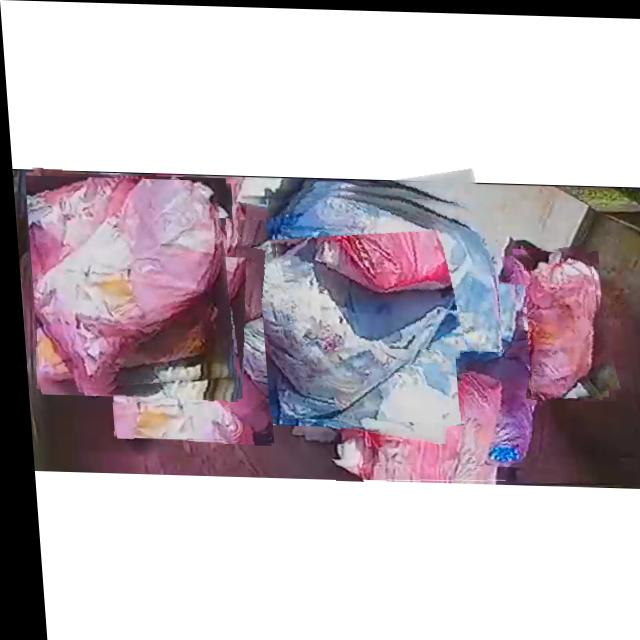other_trashbag: (212, 221, 453, 417), (29, 178, 221, 388), (271, 189, 497, 348), (113, 254, 263, 439), (329, 368, 495, 479), (471, 283, 542, 463), (526, 247, 591, 396)
